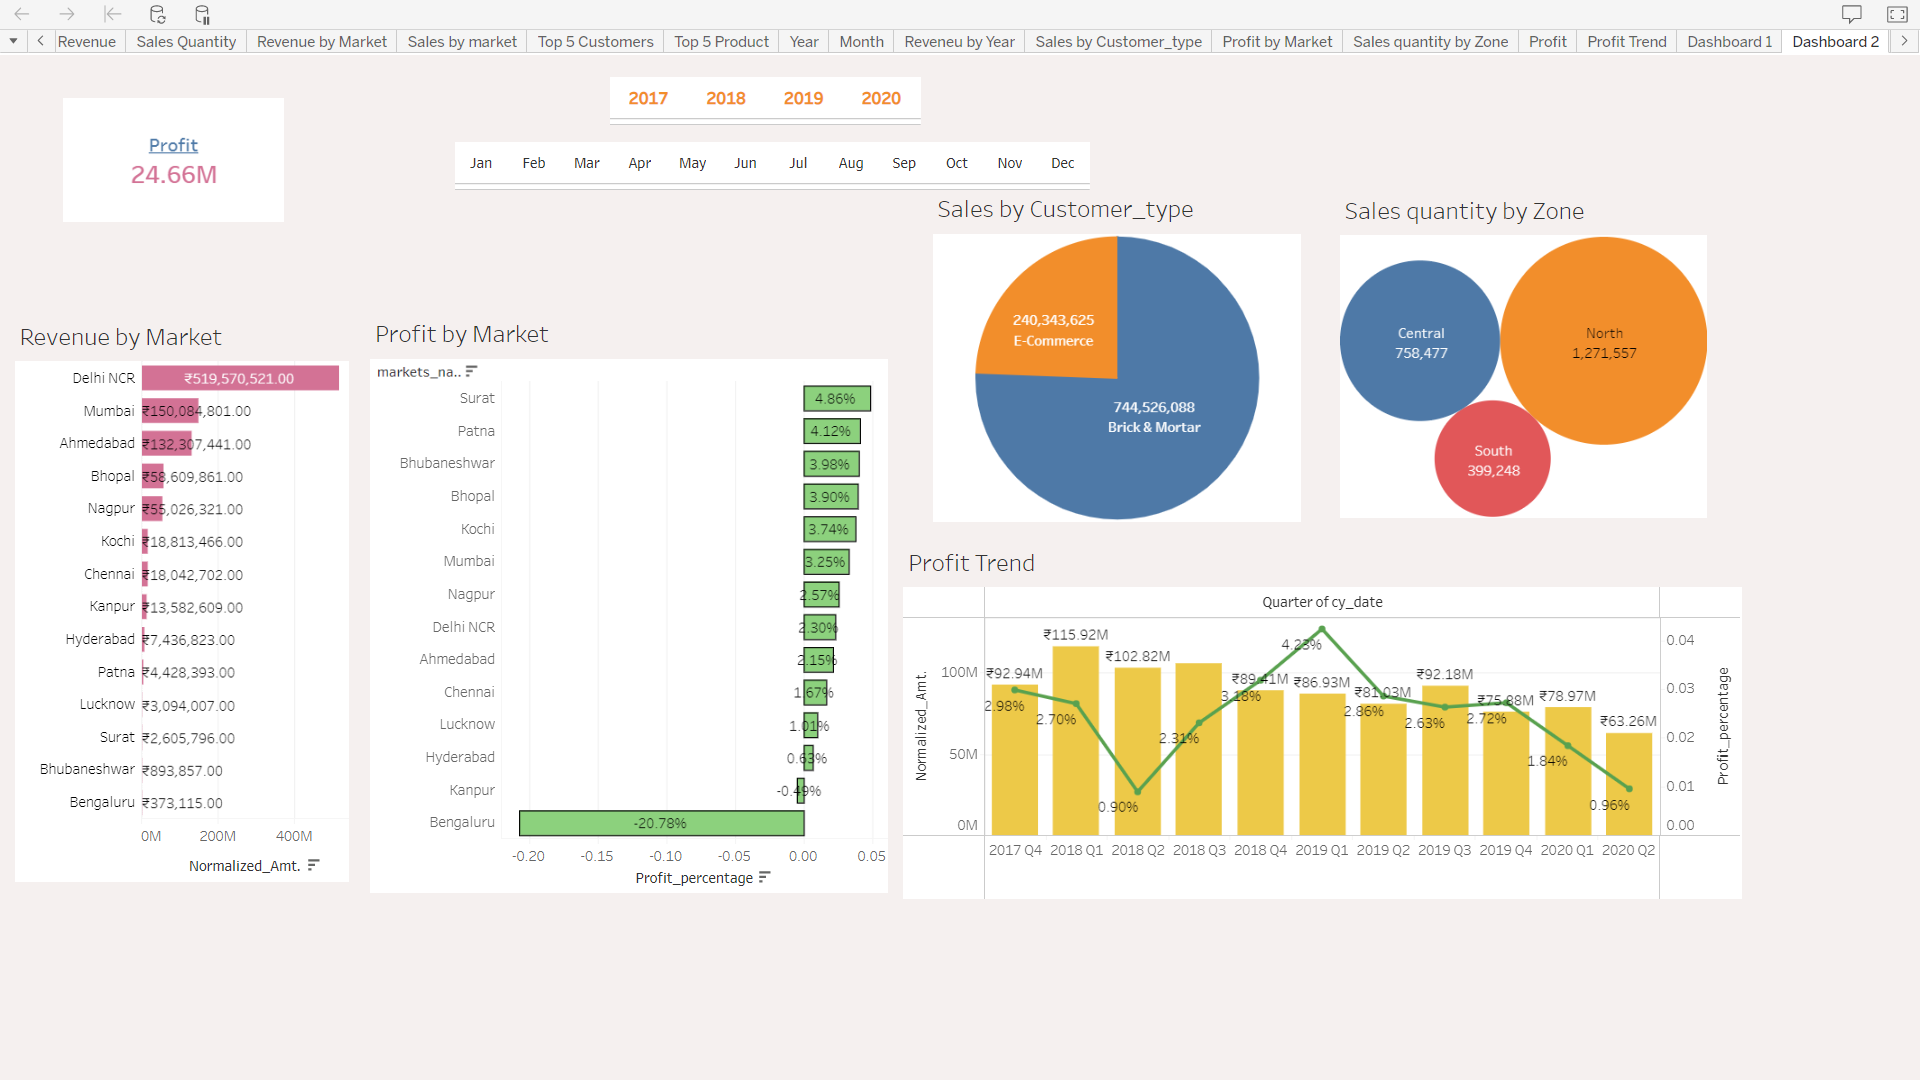

What the dashboard file says about the page in this screenshot:
{"tool":"tableau","page":{"name":"Dashboard 2","canvas":[1550,750],"ordinal":1},"visuals":[{"type":"worksheet","title":"Year","mark":"Automatic","cols":["cy_date"],"box":[542,4,282,59]},{"type":"worksheet","title":"Profit","mark":"Automatic","box":[56,38,196,114]},{"type":"worksheet","title":"Month","mark":"Automatic","cols":["cy_date"],"box":[404,62,566,59]},{"type":"worksheet","title":"Sales by Customer_type","mark":"Pie","box":[829,116,334,306]},{"type":"worksheet","title":"Sales quantity by Zone","mark":"Circle","box":[1191,117,331,304]},{"type":"worksheet","title":"Revenue by Market","mark":"Automatic","rows":["markets_name"],"cols":["Calculation_803329591773749248"],"box":[13,229,301,519]},{"type":"worksheet","title":"Profit Trend","mark":"Bar","rows":["Calculation_803329591773749248","Calculation_664280953511690242"],"cols":["cy_date"],"box":[803,430,745,322]}]}

Visuals, with their boxes on the page's 1550x750 design canvas (x1, y1, x2, y2). These are canvas units, not pixel positions in the 1920x1080 screenshot, which may show the page scaled, cropped or inside an application window:
"Year" worksheet: 542,4,824,63
"Profit" worksheet: 56,38,252,152
"Month" worksheet: 404,62,970,121
"Sales by Customer_type" worksheet (Pie marks): 829,116,1163,422
"Sales quantity by Zone" worksheet (Circle marks): 1191,117,1522,421
"Revenue by Market" worksheet: 13,229,314,748
"Profit Trend" worksheet (Bar marks): 803,430,1548,752
